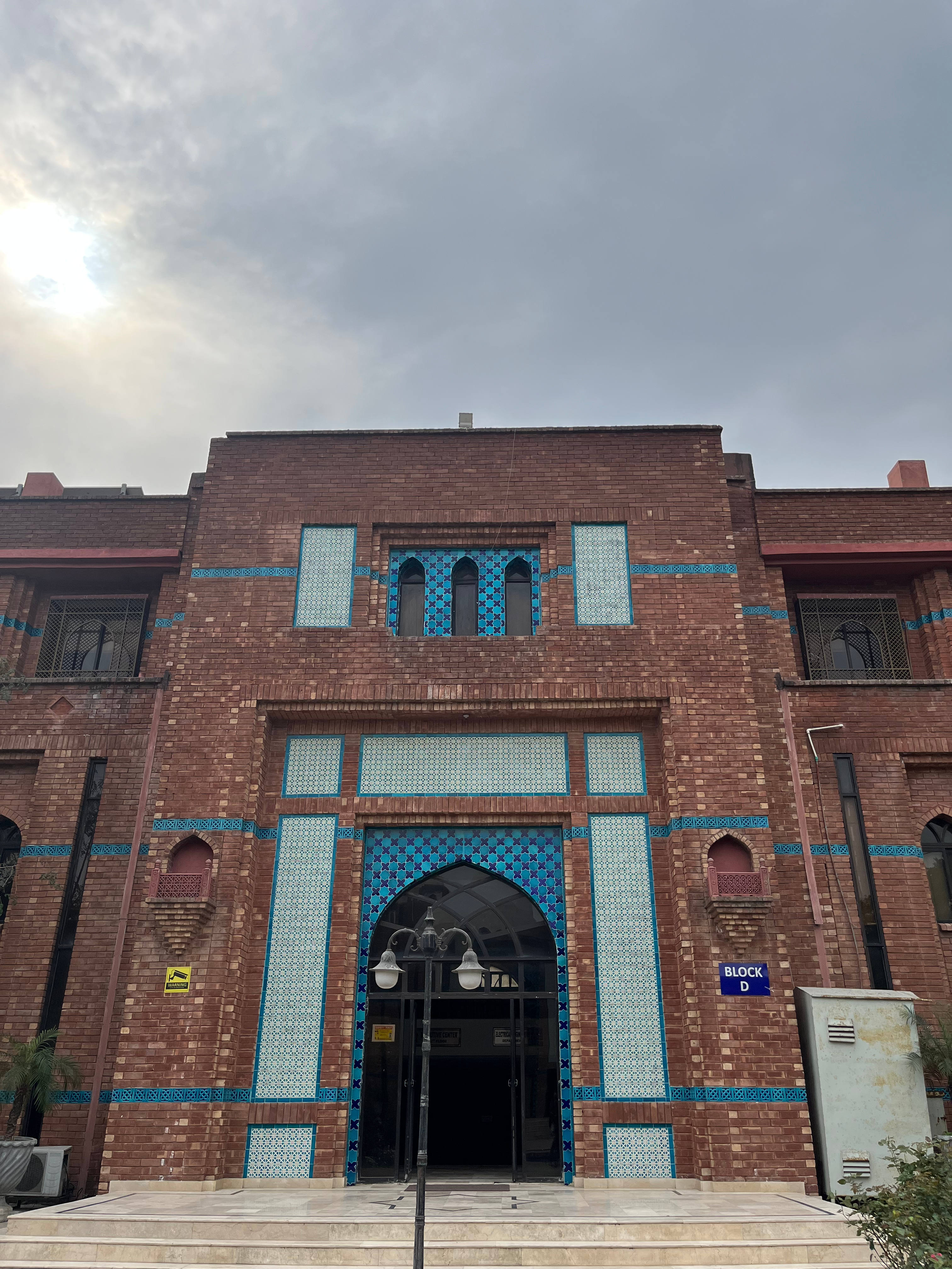Block D: (3, 390, 952, 1227)
